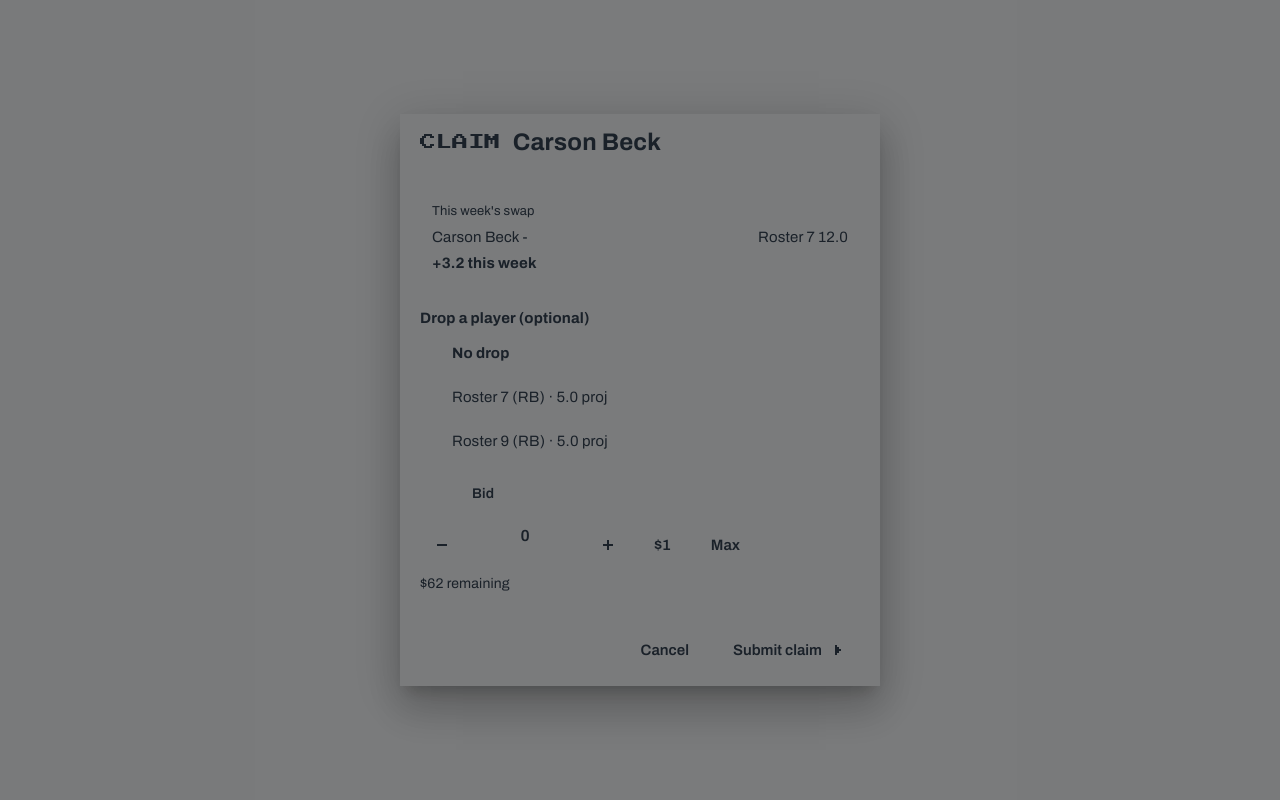
Scenario: ClaimSheet Play-select frame › keeps the bid rule: an out-of-range bid disables Submit and names the range
Replace the text in the number field labelled "Bid" with "70" at (525, 535), box [477,513,573,557]
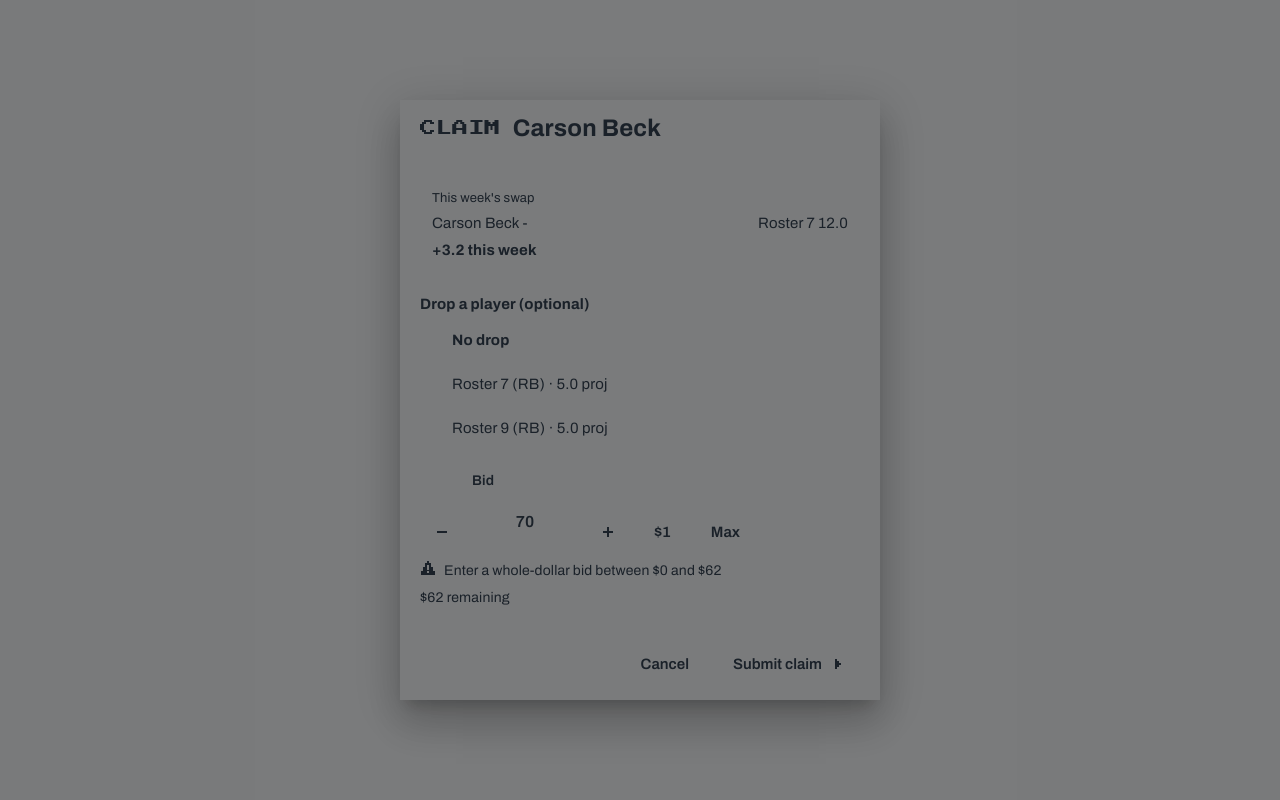
Now the text "Enter a whole-dollar bid between $0 and $62" is shown, box [444,560,722,581]
Now the button "Submit claim" is disabled, box [717,642,860,686]
